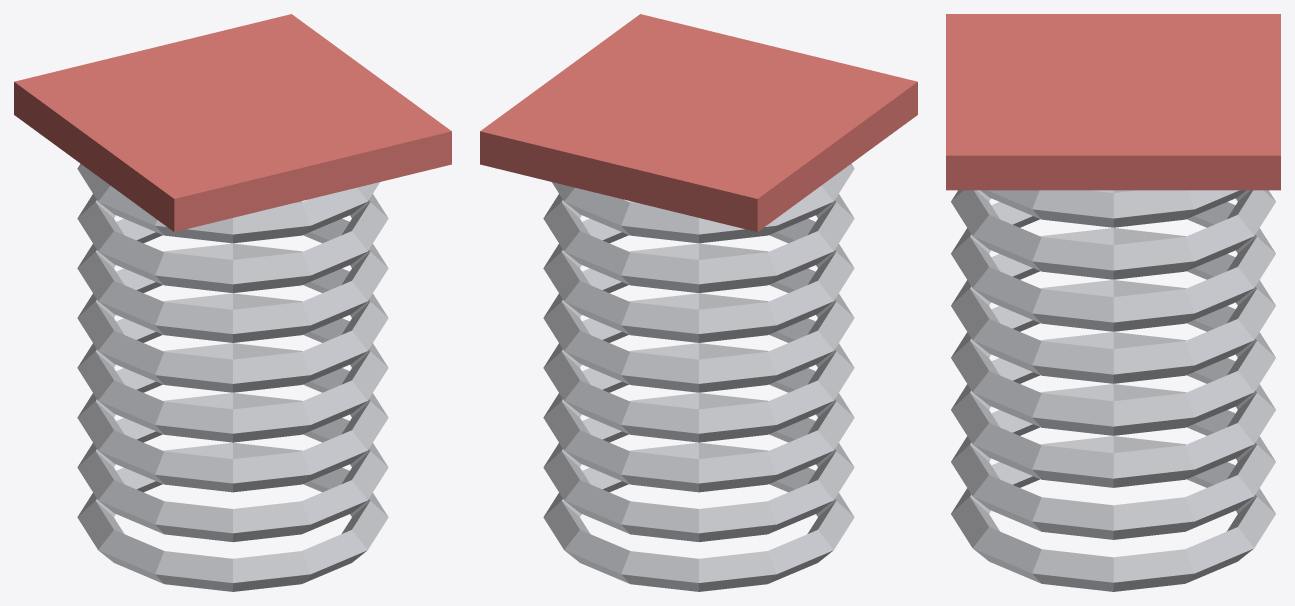
Rendered from resorte.glb.
3 renders of one model, left to right at view 1: azimuth 30°, elevation 25°; view 2: azimuth 150°, elevation 25°; view 3: azimuth 270°, elevation 25°, orthographic. The views are drawn at different scales.
Parts seen in each view (by area): view 1: resorte; view 2: resorte; view 3: resorte.
Part boxes in pixels (bbox=[...]): resorte: bbox=[14, 14, 451, 591]; resorte: bbox=[480, 14, 917, 591]; resorte: bbox=[946, 14, 1280, 591].
Bounding box in the file's own units: 0.7 × 1.03 × 0.7.
